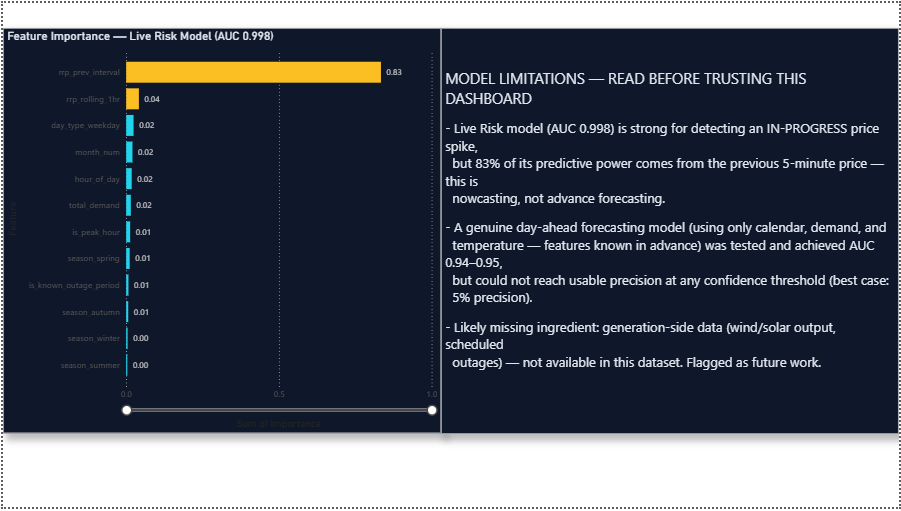

The dashboard page shown, as its layout file describes it:
{"tool":"powerbi","page":{"name":"Model Insights","canvas":[1280,720],"ordinal":2},"visuals":[{"type":"clusteredBarChart","title":"Feature Importance — Live Risk Model (AUC 0.998)","fields":{"Category":["FeatureImportance.Feature"],"Y":["Sum(FeatureImportance.Importance)"]},"box":[0,36,626.4,578.9],"z":0},{"type":"textbox","box":[626.4,36,653.8,580.3],"z":1}]}

Visuals, with their boxes in screenshot pixels (x1, y1, x2, y2), scaled from the page's 1280x720 canvas onto the 901x511 screenshot:
"Feature Importance — Live Risk Model (AUC 0.998)" clusteredBarChart: [x1=0, y1=26, x2=441, y2=436]
textbox: [x1=441, y1=26, x2=900, y2=437]
